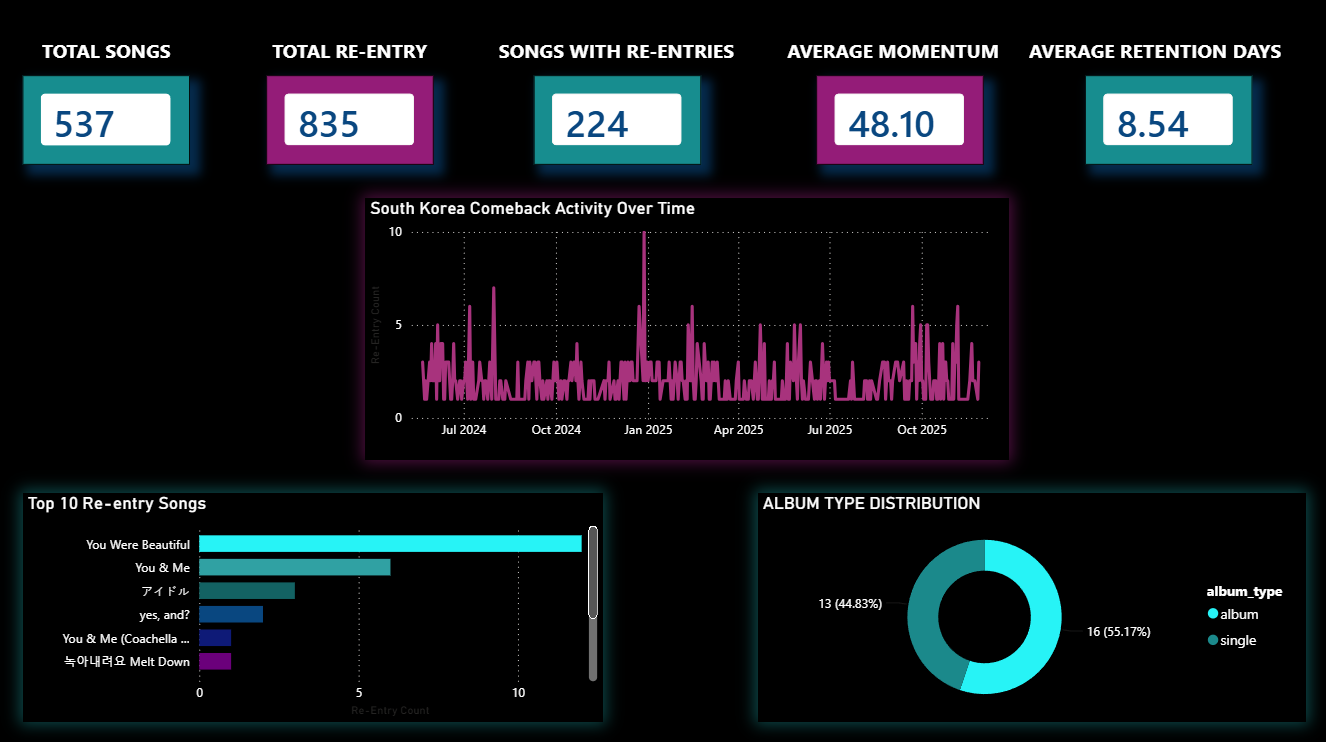

The dashboard page shown, as its layout file describes it:
{"tool":"powerbi","page":{"name":"Executive Overview","canvas":[1280,720],"ordinal":1},"visuals":[{"type":"lineChart","title":"South Korea Comeback Activity Over Time","fields":{"Y":["Reentry.Re-Entry Count"],"Category":["Atlantic_South_Korea_Reentry_Events.start_date.Variation.Date Hierarchy.Year"]},"box":[352.7,192.1,621.6,252.5],"z":0},{"type":"textbox","box":[22,32.9,161.9,41.2],"z":1000},{"type":"textbox","box":[209.9,32.9,255.2,41.2],"z":2000},{"type":"textbox","box":[458.3,32.9,273.1,41.2],"z":3000},{"type":"textbox","box":[725.9,32.9,271.7,41.2],"z":4000},{"type":"textbox","box":[949.6,32.9,330.7,41.2],"z":5000},{"type":"clusteredBarChart","title":"Top 10 Re-entry Songs ","fields":{"Category":["Atlantic_South_Korea_Reentry_Events.song"],"Y":["Reentry.Re-Entry Count"]},"box":[22,476.2,559.9,220.9],"z":6000},{"type":"donutChart","title":"ALBUM TYPE DISTRIBUTION","fields":{"Category":["Reentry.album_type"],"Y":["Reentry.Re-Entry Count"]},"box":[731.4,476.2,529.7,220.9],"z":7000},{"type":"cardVisual","fields":{"Data":["Cleaned.Total Songs"]},"box":[22,74.1,161.9,86.4],"z":8000},{"type":"cardVisual","fields":{"Data":["Reentry.Total Re-Entries"]},"box":[256.6,74.1,161.9,86.4],"z":9000},{"type":"cardVisual","fields":{"Data":["Reentry.Average Momentum"]},"box":[787.7,74.1,161.9,86.4],"z":10000},{"type":"cardVisual","fields":{"Data":["Reentry.Songs With Re-Entries"]},"box":[514.6,74.1,161.9,86.4],"z":11000},{"type":"cardVisual","fields":{"Data":["Reentry.Average Retention Days"]},"box":[1047,74.1,161.9,86.4],"z":12000}]}

Visuals, with their boxes in screenshot pixels (x1, y1, x2, y2), scaled from the page's 1280x720 canvas onto the 1326x742 screenshot:
"South Korea Comeback Activity Over Time" lineChart: <region>365, 198, 1009, 458</region>
textbox: <region>23, 34, 191, 76</region>
textbox: <region>217, 34, 482, 76</region>
textbox: <region>475, 34, 758, 76</region>
textbox: <region>752, 34, 1033, 76</region>
textbox: <region>984, 34, 1325, 76</region>
"Top 10 Re-entry Songs " clusteredBarChart: <region>23, 491, 603, 718</region>
"ALBUM TYPE DISTRIBUTION" donutChart: <region>758, 491, 1306, 718</region>
cardVisual - Cleaned.Total Songs: <region>23, 76, 191, 165</region>
cardVisual - Reentry.Total Re-Entries: <region>266, 76, 434, 165</region>
cardVisual - Reentry.Average Momentum: <region>816, 76, 984, 165</region>
cardVisual - Reentry.Songs With Re-Entries: <region>533, 76, 701, 165</region>
cardVisual - Reentry.Average Retention Days: <region>1085, 76, 1252, 165</region>
